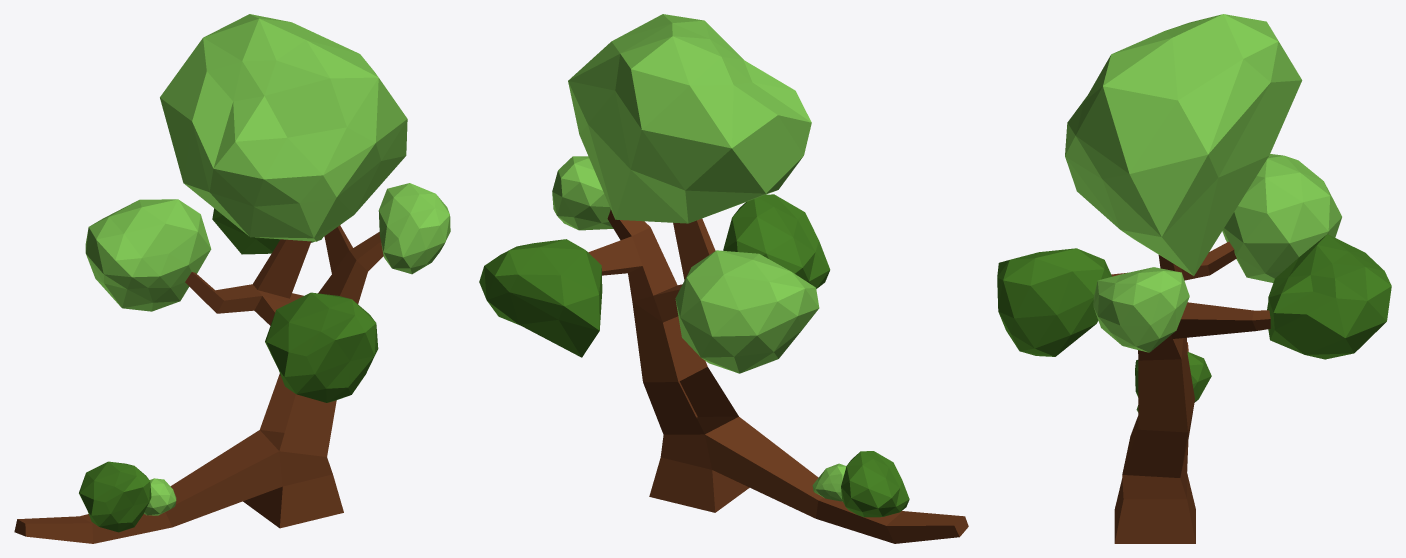
The model's file is low-poly-tree.fbx.
The picture shows the model from 3 angles, left to right: view 1: azimuth 30°, elevation 25°; view 2: azimuth 150°, elevation 25°; view 3: azimuth 270°, elevation 25°; orthographic projection. The views are drawn at different scales.
Parts seen in each view (by area): view 1: Icosphere.002, stem, Icosphere, Icosphere.004, Icosphere.003, Icosphere.006, Icosphere.005, Icosphere.007; view 2: Icosphere.002, stem, Icosphere, Icosphere.005, Icosphere.004, Icosphere.006, Icosphere.003, Icosphere.007; view 3: Icosphere.002, stem, Icosphere.005, Icosphere, Icosphere.004, Icosphere.003, Icosphere.006.
Boxes of the visible parts, x1,y1,x2,y2 form: Icosphere.002: (160,14,407,241); stem: (14,225,383,543); Icosphere: (85,199,211,311); Icosphere.004: (265,292,378,402); Icosphere.003: (378,183,450,274); Icosphere.006: (79,461,151,532); Icosphere.005: (212,208,322,254); Icosphere.007: (144,478,176,515); Icosphere.002: (568,14,811,223); stem: (588,209,968,543); Icosphere: (675,250,819,373); Icosphere.005: (479,239,602,357); Icosphere.004: (723,194,830,288); Icosphere.006: (841,451,909,517); Icosphere.003: (552,156,613,230); Icosphere.007: (812,463,846,501); Icosphere.002: (1065,14,1302,275); stem: (1111,241,1270,543); Icosphere.005: (1267,234,1391,359); Icosphere: (1222,154,1341,282); Icosphere.004: (997,248,1111,356); Icosphere.003: (1093,267,1189,352); Icosphere.006: (1135,351,1211,402).
Size of the model in its own units: 1907 by 2072 by 1450.
